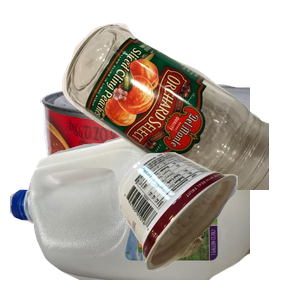glass: (60, 21, 300, 201)
metal: (37, 81, 277, 261)
plastic: (10, 120, 250, 300)
trash: (116, 149, 300, 300)
